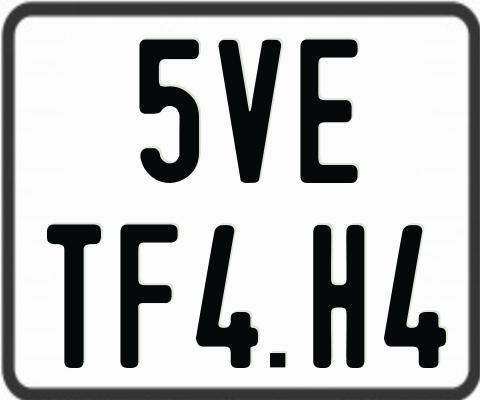4: (195, 222, 262, 367), (381, 222, 447, 366)
5: (136, 38, 198, 184)
E: (298, 36, 359, 185)
F: (119, 221, 178, 371)
H: (311, 224, 367, 369)
T: (47, 222, 107, 366)
V: (217, 38, 283, 186)
